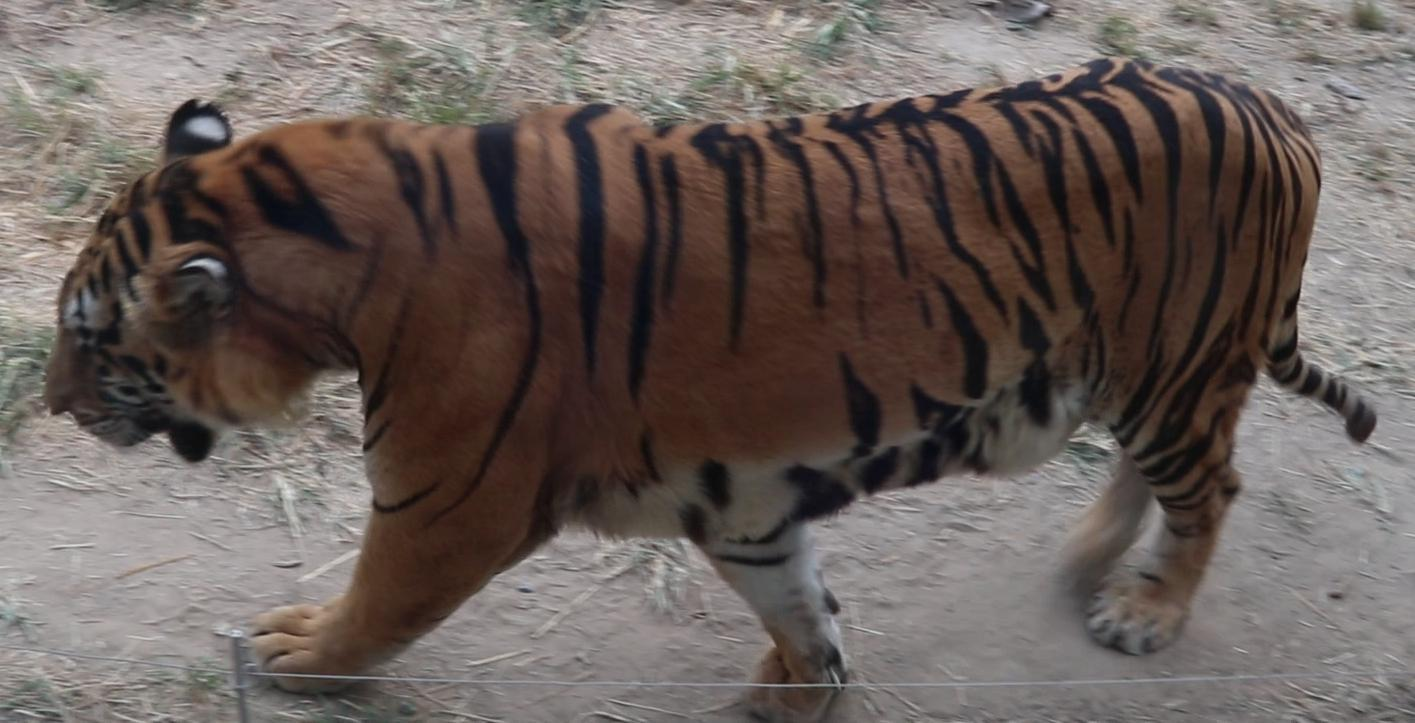tiger: (39, 68, 1378, 723)
